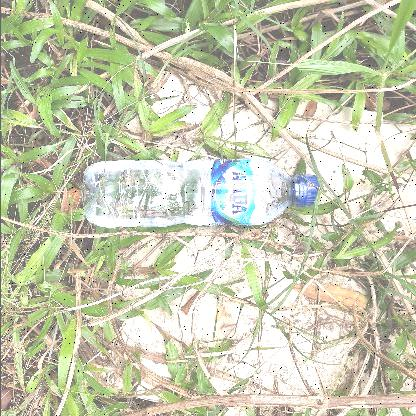Plastic Bottle: (78, 158, 324, 228)
